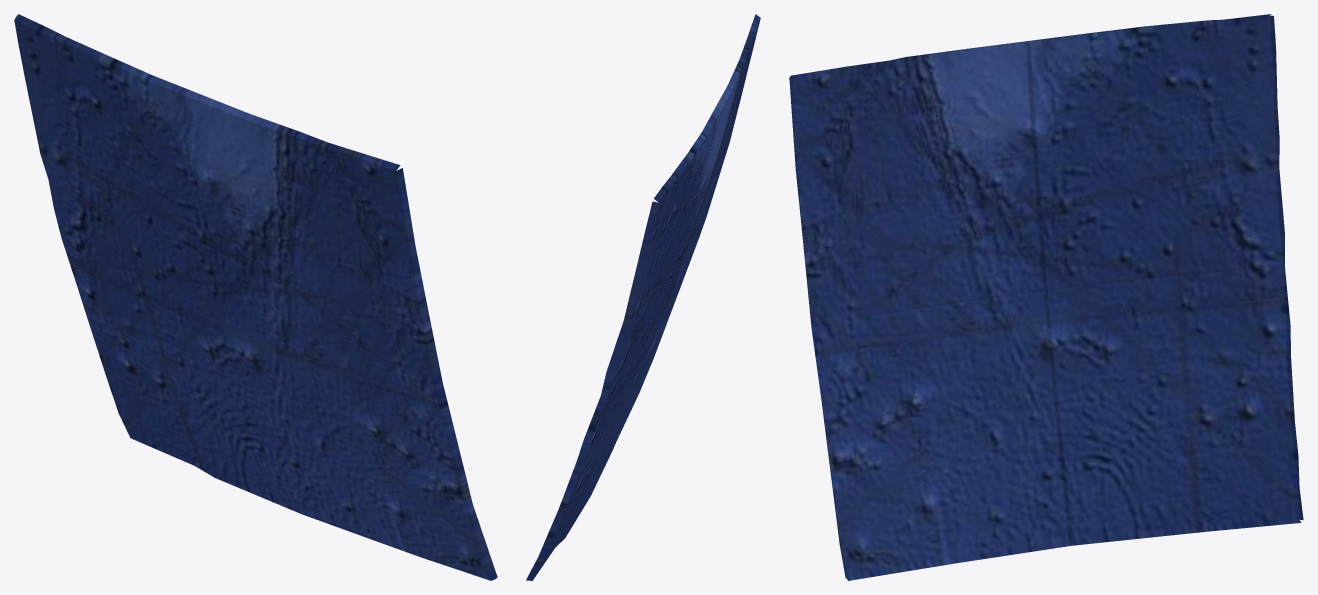
3 views of the same model, side by side, from view 1: azimuth 30°, elevation 25°; view 2: azimuth 150°, elevation 25°; view 3: azimuth 270°, elevation 25° (orthographic). The views are drawn at different scales.
Bounding box in the file's own units: 710341 × 1207549 × 1257469.
1 material, 1 textured.
